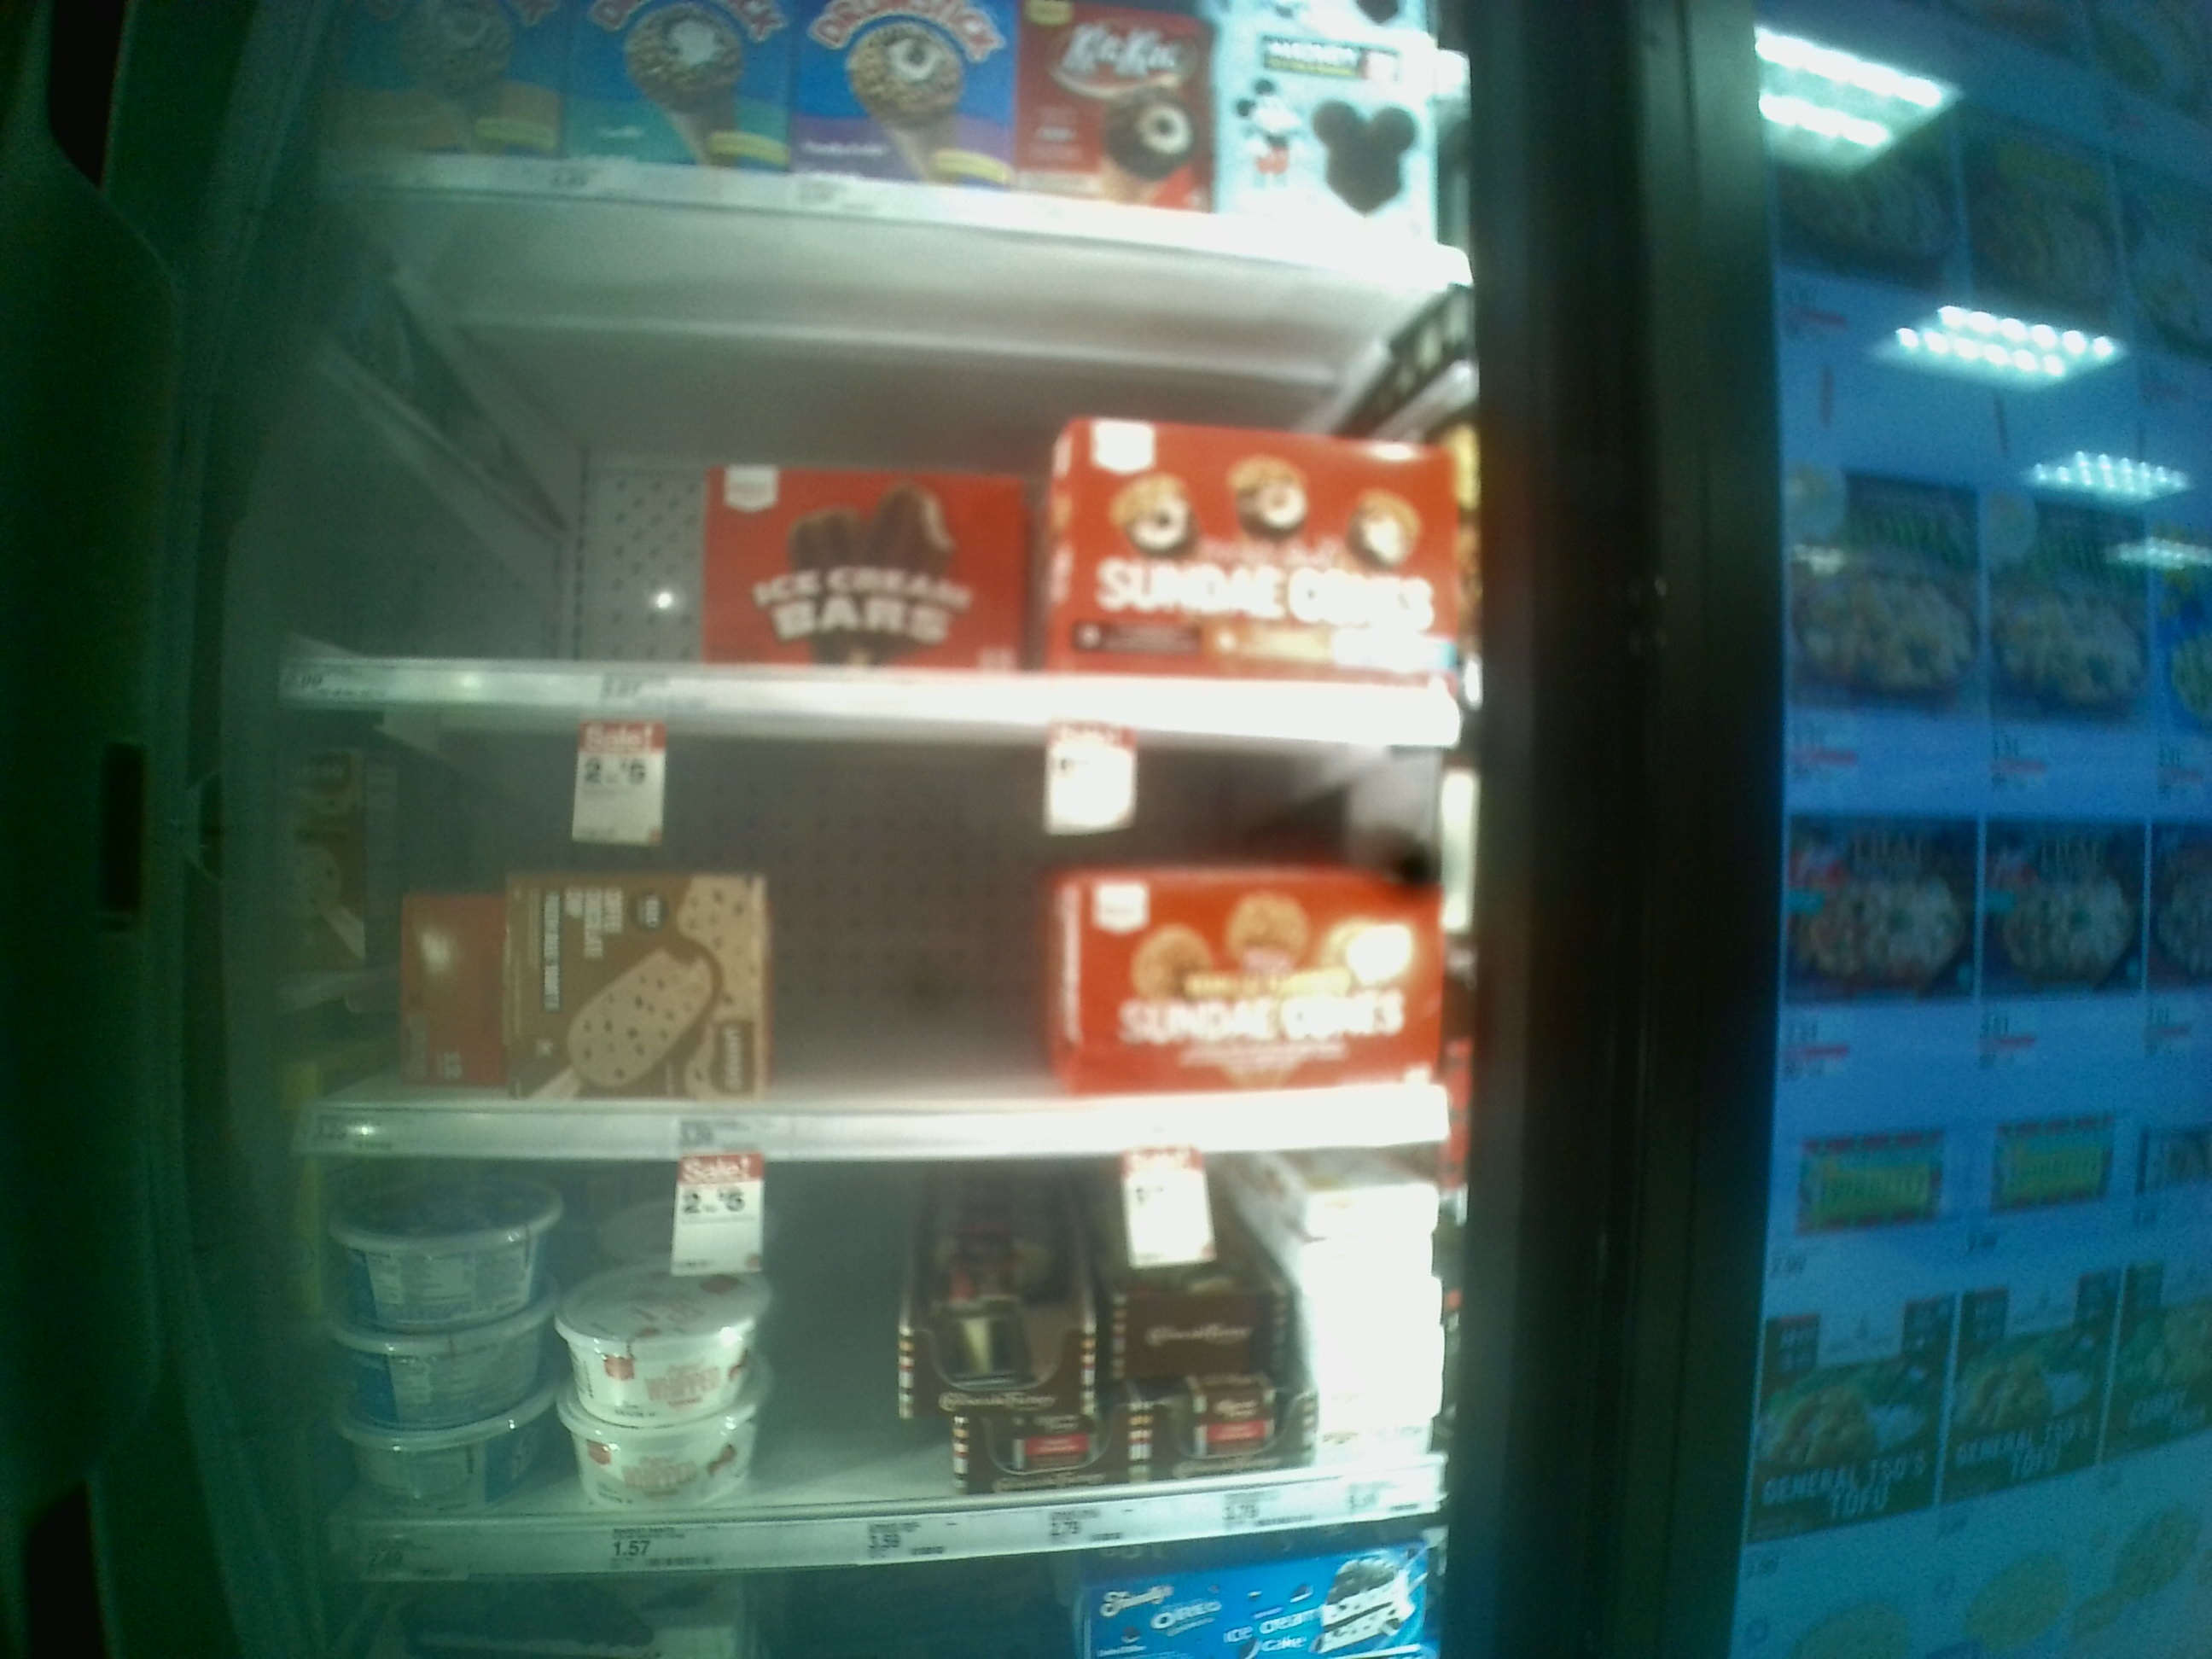shelf: (263, 186, 1480, 737), (273, 708, 1468, 1159), (265, 1162, 1480, 1572)
